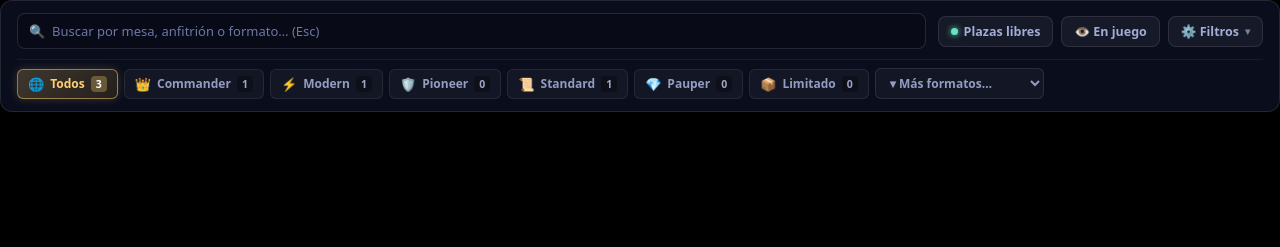
TableFilterBar component › opens advanced drawer and displays mode, skill and switch filters
Click the text "⚙️ Filtros": (1210, 31) x1=1181 y1=22 x2=1239 y2=40
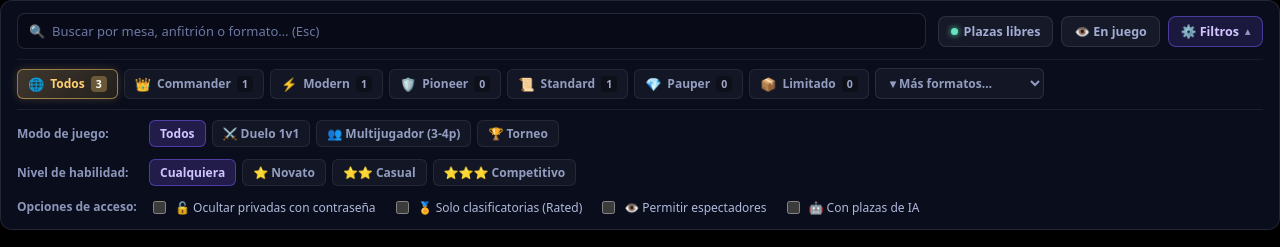
Now the text "Modo de juego:" is shown, box x1=17 y1=125 x2=109 y2=142
Now the text "Nivel de habilidad:" is shown, box x1=17 y1=164 x2=137 y2=181
Now the text "🔓 Ocultar privadas con contraseña" is shown, box x1=175 y1=199 x2=376 y2=216
